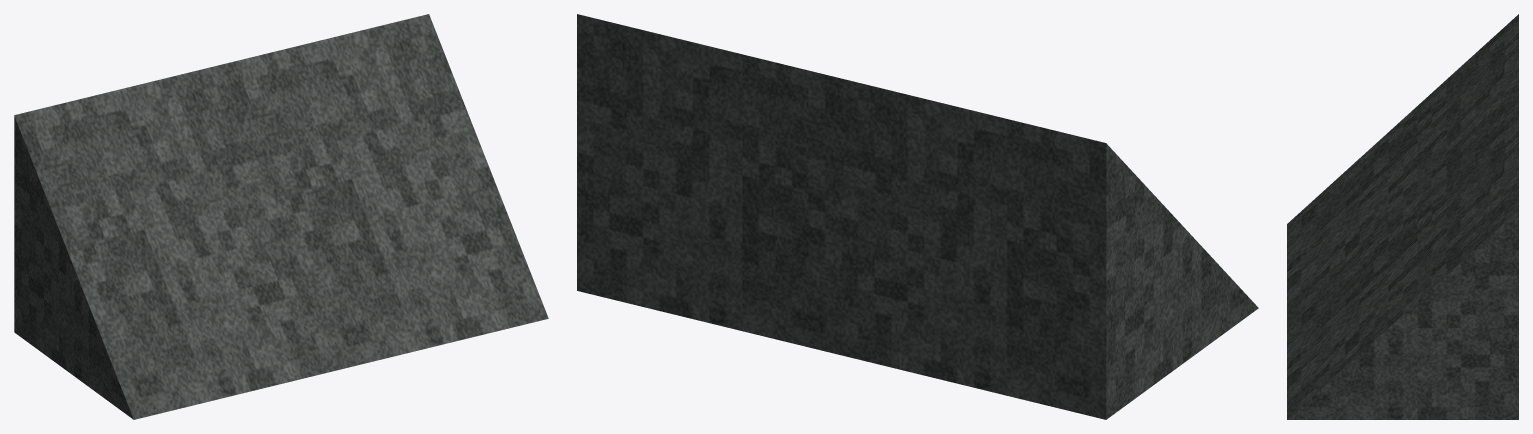
File: ENV_F_BankWedge.fbx
3 renders of one model, left to right at view 1: azimuth 30°, elevation 25°; view 2: azimuth 150°, elevation 25°; view 3: azimuth 270°, elevation 25°, orthographic. The views are drawn at different scales.
Parts seen in each view (by area): view 1: PH02_ENV_F_BankWedge; view 2: PH02_ENV_F_BankWedge; view 3: PH02_ENV_F_BankWedge.
Part boxes in pixels (box(x1,y1,x2,y2)): PH02_ENV_F_BankWedge: box(14, 14, 548, 419); PH02_ENV_F_BankWedge: box(577, 14, 1258, 419); PH02_ENV_F_BankWedge: box(1287, 14, 1518, 419).
Bounding box in the file's own units: 400 × 200 × 200.
Materials: 1 (1 with a texture image).
